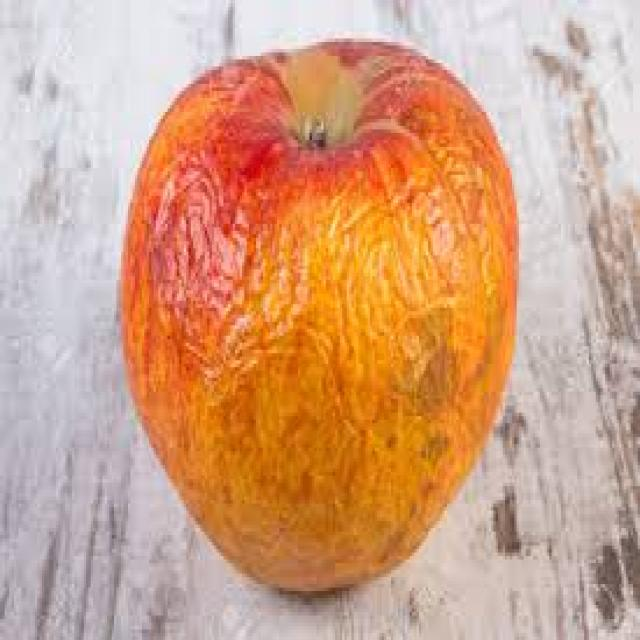overripe: (116, 39, 523, 598)
